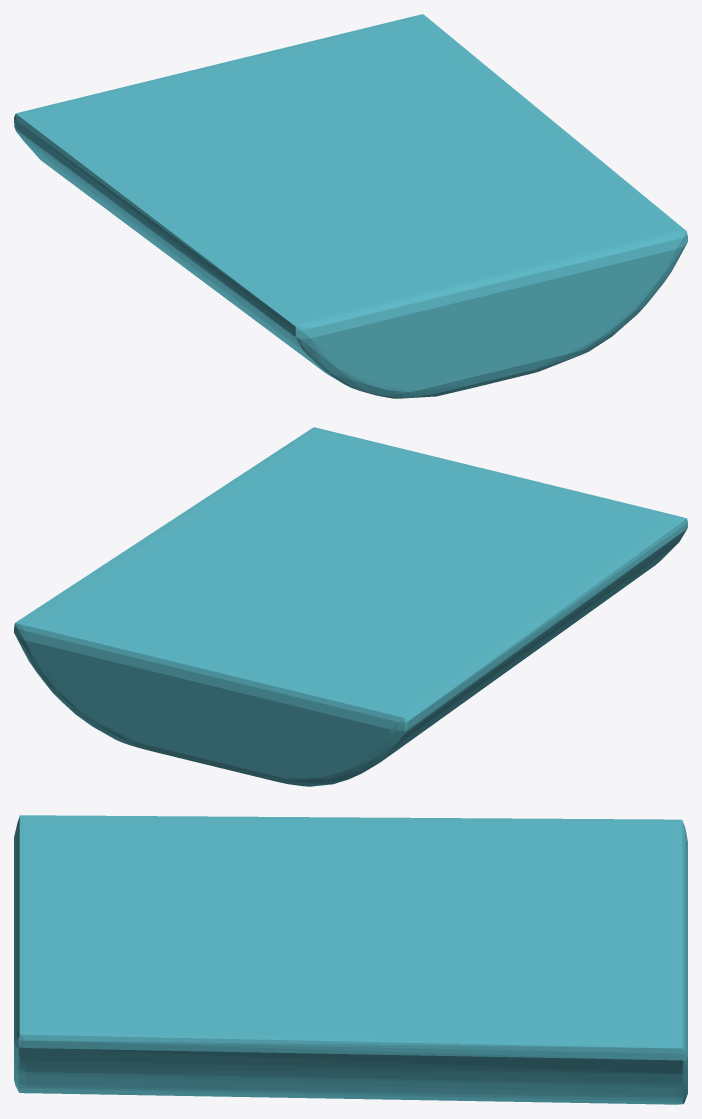
File: right_shoulder_yaw_link_part_2.obj
3 renders of one model, top to bottom at view 1: azimuth 30°, elevation 25°; view 2: azimuth 150°, elevation 25°; view 3: azimuth 270°, elevation 25°, orthographic. The views are drawn at different scales.
Bounding box in the file's own units: 0.0515 × 0.0124 × 0.0627.
